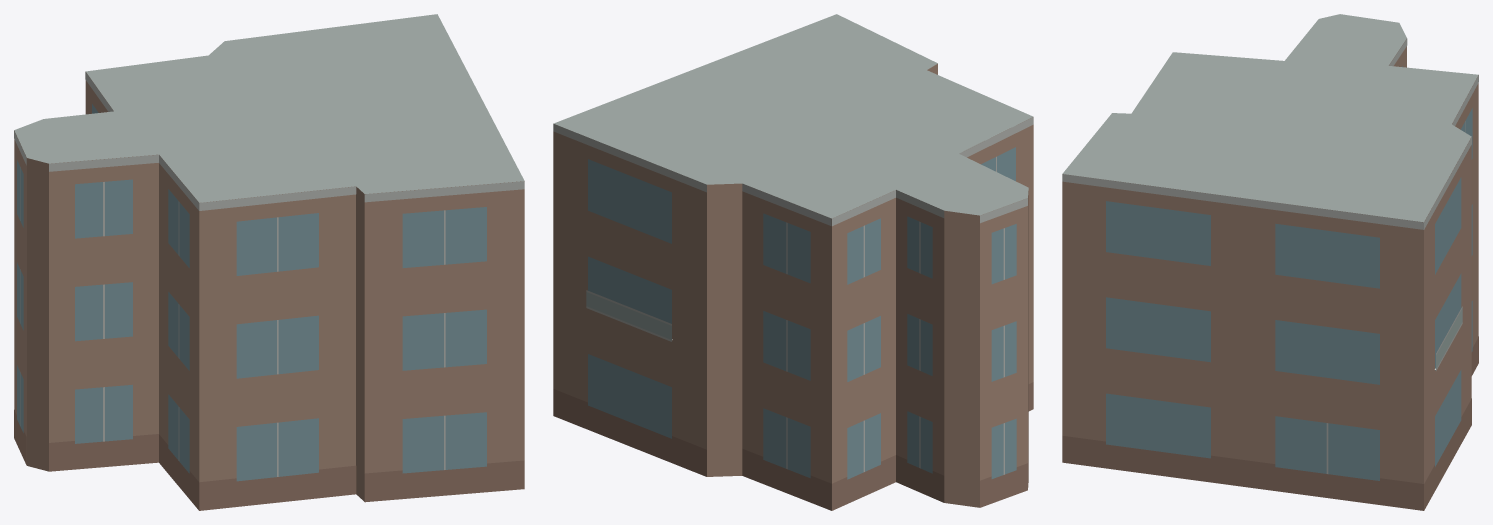
Rendered from survey-upis-32932276.glb.
3 views of the same model, side by side, from view 1: azimuth 30°, elevation 25°; view 2: azimuth 150°, elevation 25°; view 3: azimuth 270°, elevation 25° (orthographic). The views are drawn at different scales.
Parts seen in each view (by area): view 1: survey-upis-32932276.tmp; view 2: survey-upis-32932276.tmp; view 3: survey-upis-32932276.tmp.
Boxes of the visible parts, x1,y1,x2,y2 form: survey-upis-32932276.tmp: (14,14,524,510); survey-upis-32932276.tmp: (553,14,1033,510); survey-upis-32932276.tmp: (1062,14,1478,510).
Bounding box in the file's own units: 14.17 × 9.15 × 11.97.
